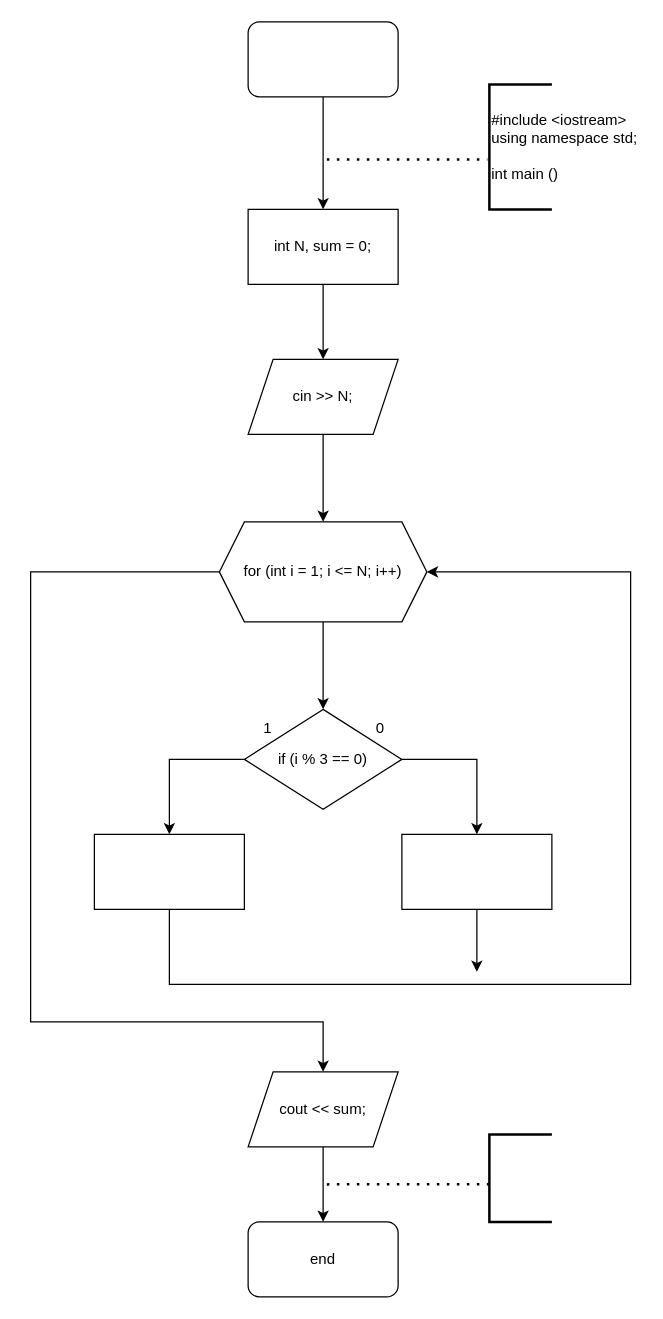
The diagram is 663 pixels wide and 1319 high, and some of its shapes have lost their labels. The shapes that lost their labels are listed below. From the top down, each one's box as (x1, y1, x2, y2) in pixels, then its label:
(247, 21, 398, 97): start
(93, 833, 244, 909): sum -= i;
(401, 833, 552, 909): sum += i;
(488, 1132, 552, 1222): return 0;
